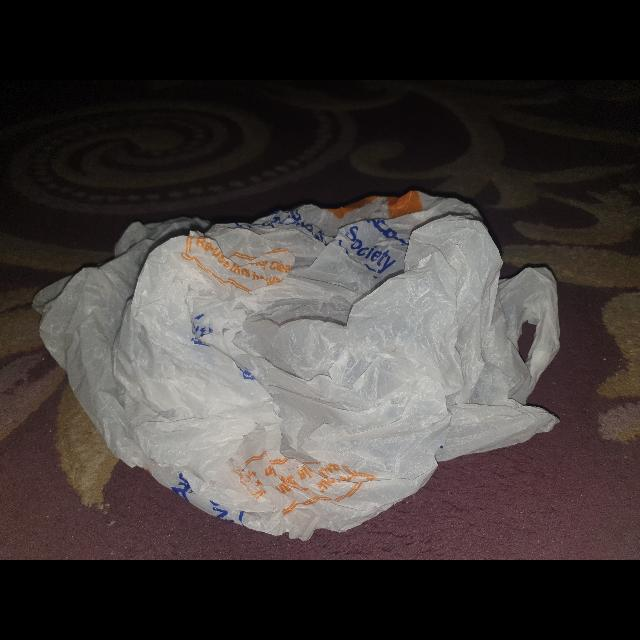plastic_bag: (16, 184, 572, 548)
